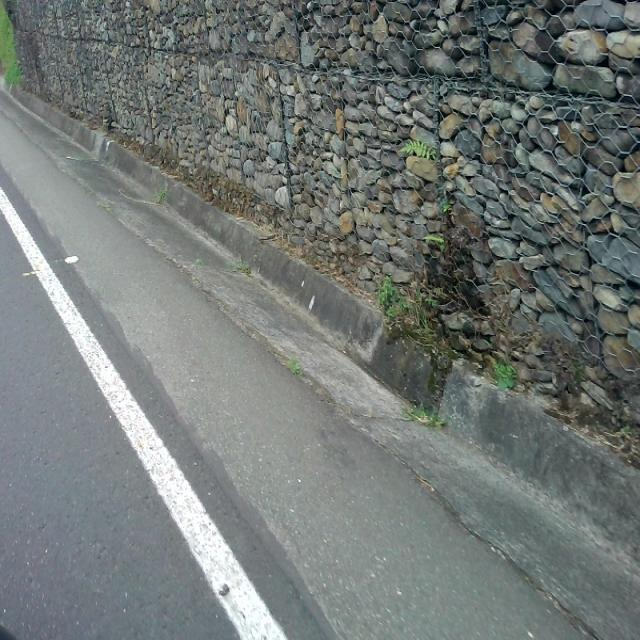DITCH: (12, 1, 638, 638), (1, 80, 638, 639)
